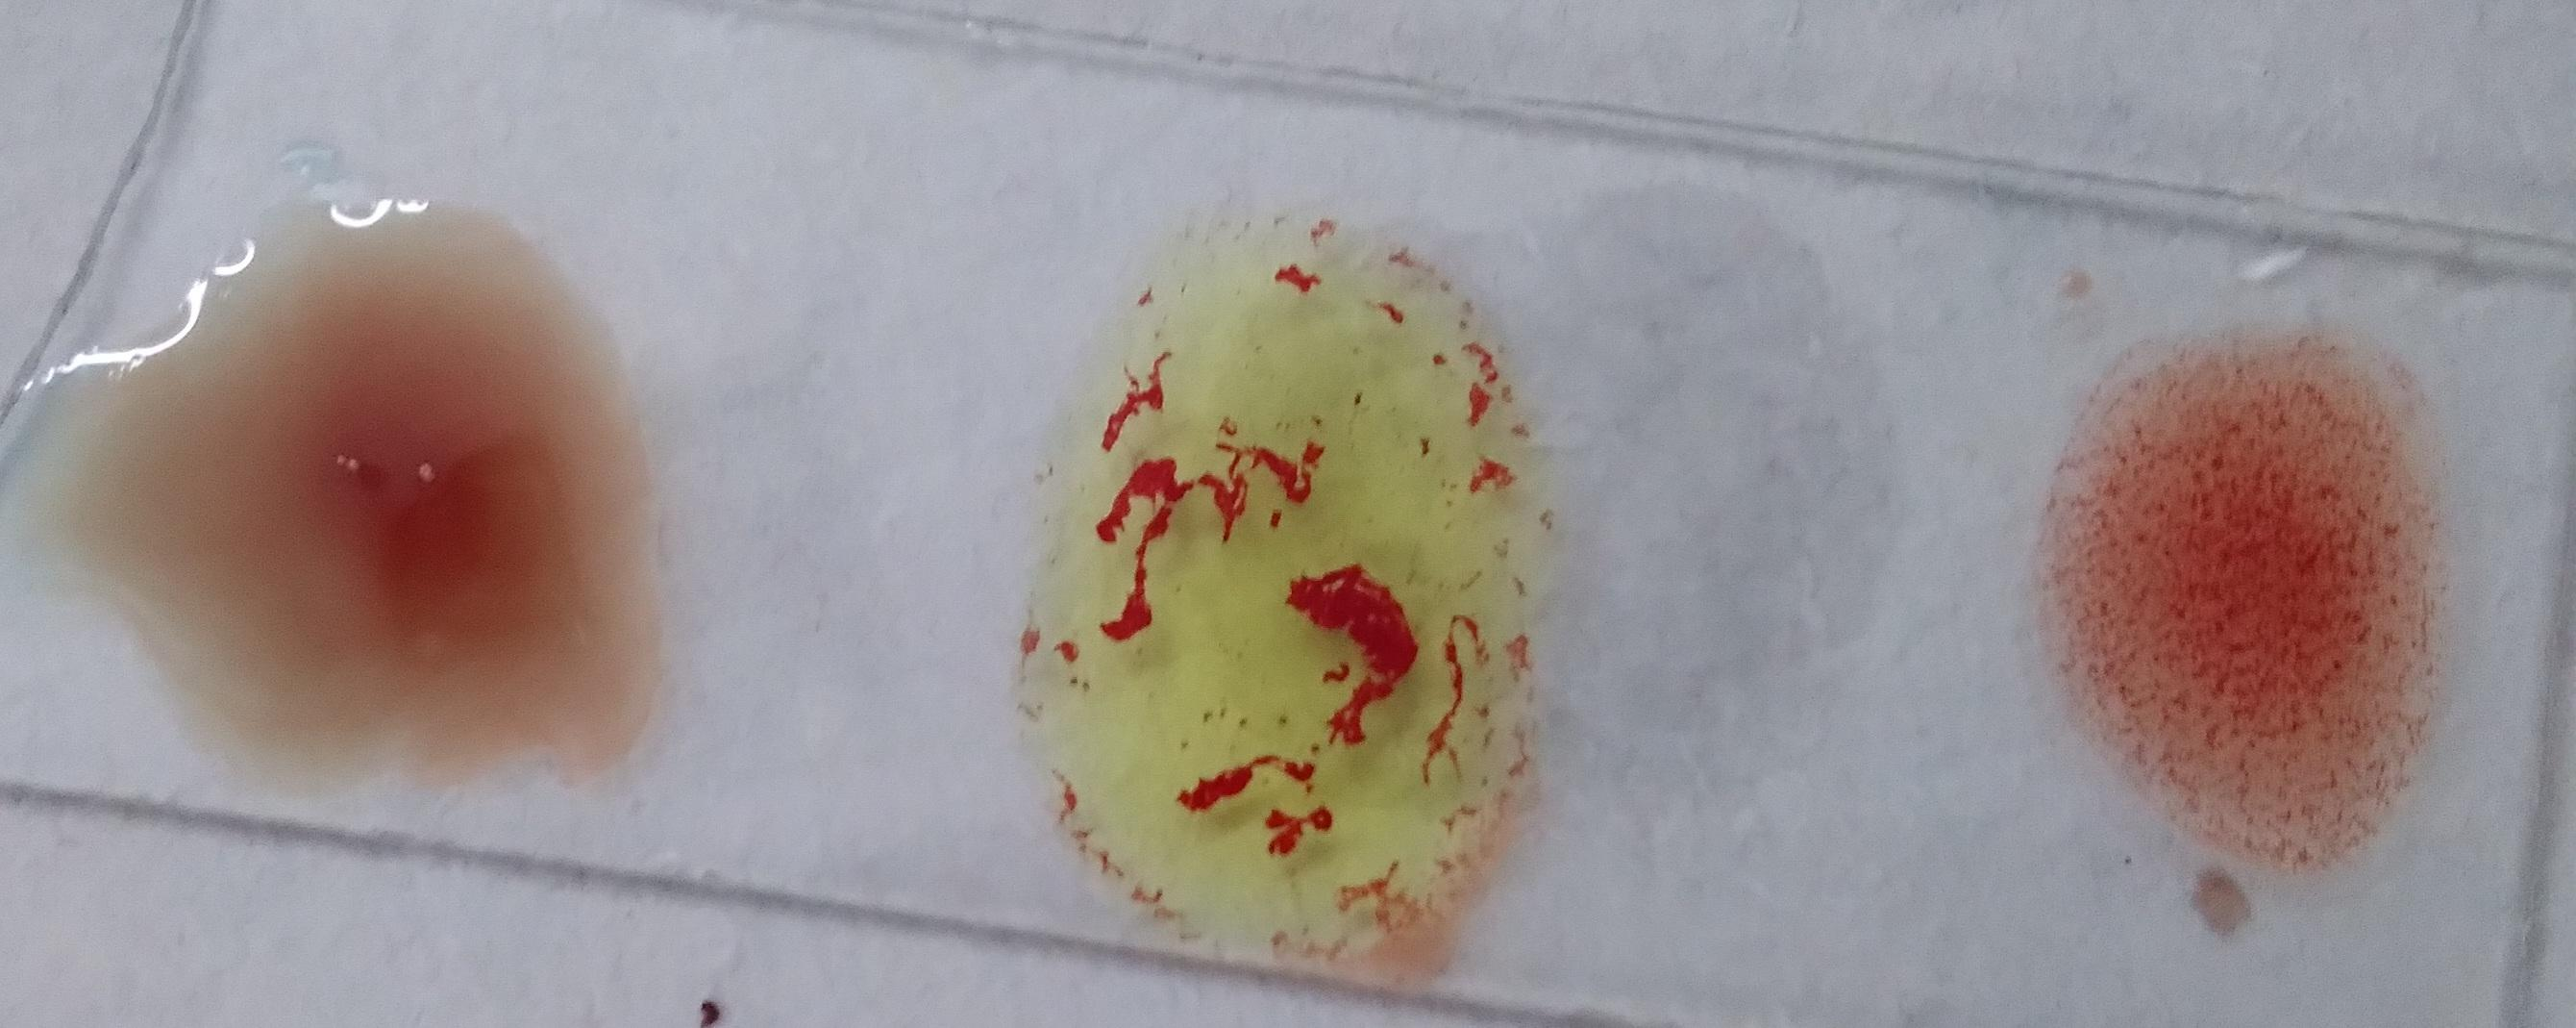B: (1040, 43, 1533, 839)
D: (131, 145, 521, 702)
